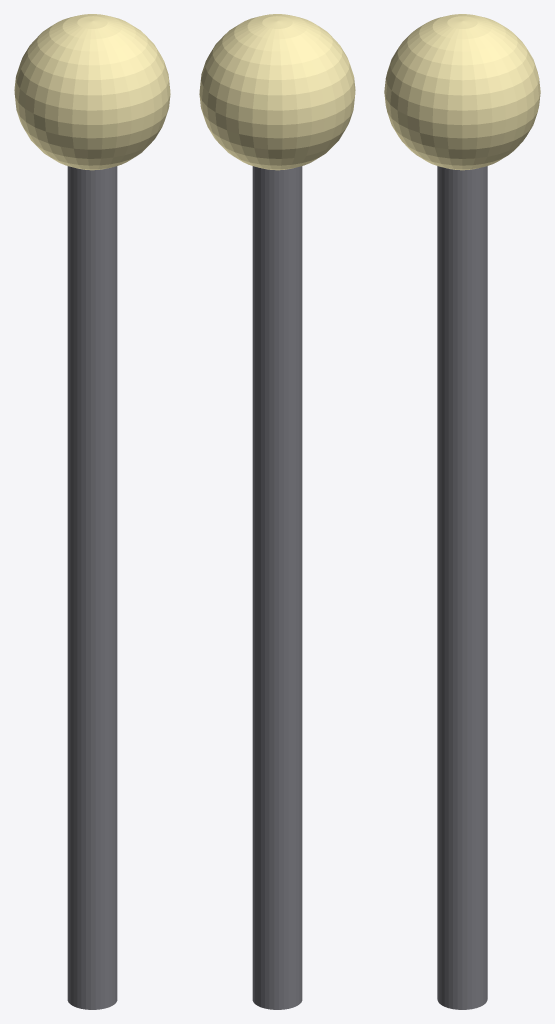
Rendered from lamp_post.glb.
The picture shows the model from 3 angles, left to right: view 1: azimuth 30°, elevation 25°; view 2: azimuth 150°, elevation 25°; view 3: azimuth 270°, elevation 25°; orthographic projection.
Parts seen in each view (by area): view 1: lamp_post; view 2: lamp_post; view 3: lamp_post.
Part boxes in pixels (x1,y1,x2,y2): lamp_post: [14, 14, 170, 1009]; lamp_post: [199, 14, 355, 1009]; lamp_post: [384, 14, 540, 1009].
Size of the model in its own units: 0.5 by 3.45 by 0.5.
